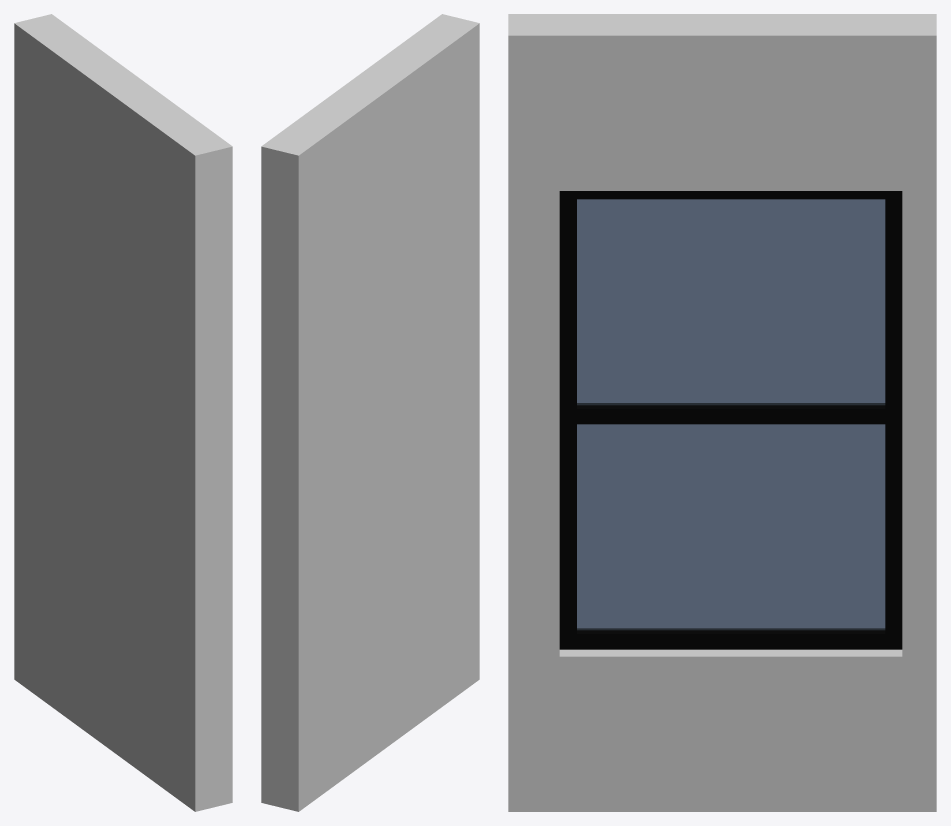
Rendered from house_wallwindow1center.glb.
3 views of the same model, side by side, from view 1: azimuth 30°, elevation 25°; view 2: azimuth 150°, elevation 25°; view 3: azimuth 270°, elevation 25° (orthographic). The views are drawn at different scales.
Parts seen in each view (by area): view 1: WallWindow1Center; view 2: WallWindow1Center; view 3: WallWindow1Center.
Boxes of the visible parts, bbox=[...] form: WallWindow1Center: bbox=[14, 14, 232, 811]; WallWindow1Center: bbox=[261, 14, 479, 811]; WallWindow1Center: bbox=[508, 14, 936, 811].
Size of the model in its own units: 30 by 500 by 250.
